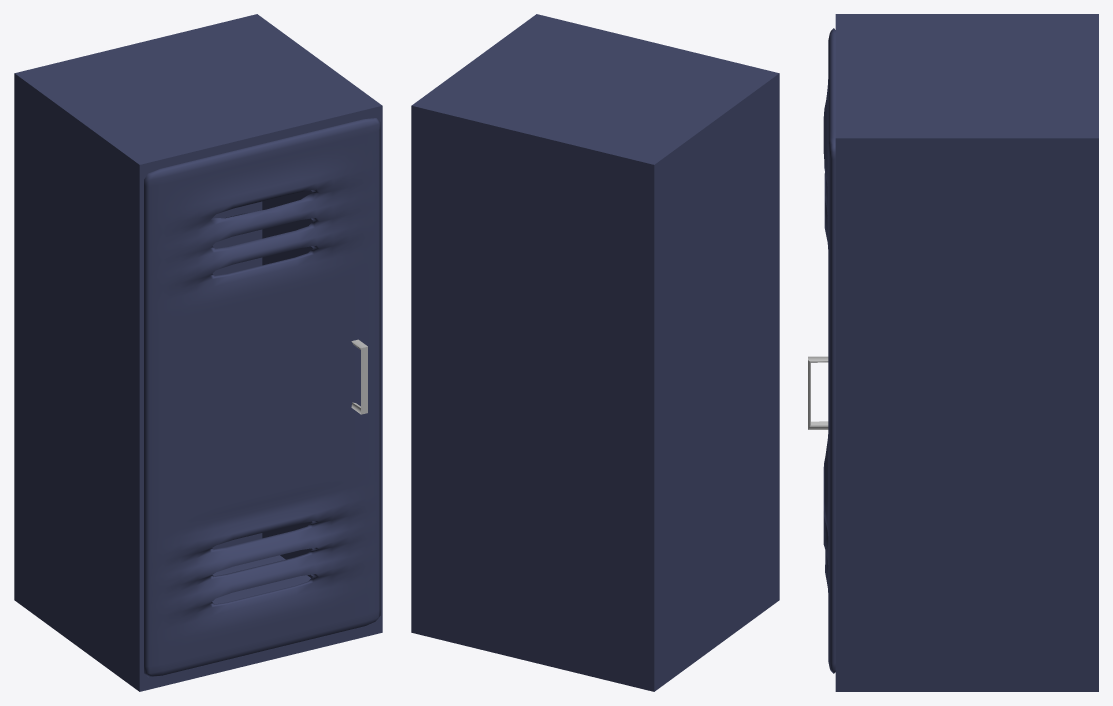
The model's file is Locker Model.fbx.
3 renders of one model, left to right at view 1: azimuth 30°, elevation 25°; view 2: azimuth 150°, elevation 25°; view 3: azimuth 270°, elevation 25°, orthographic. The views are drawn at different scales.
Visible parts, largest first — view 1: pCube4, pCube3, pCube5; view 2: pCube3; view 3: pCube3, pCube4, pCube5.
Part boxes in pixels (<box>): pCube4: <box>144,118,380,677</box>; pCube3: <box>14,14,382,691</box>; pCube5: <box>351,339,367,414</box>; pCube3: <box>411,14,779,691</box>; pCube3: <box>835,14,1098,691</box>; pCube4: <box>823,28,835,673</box>; pCube5: <box>808,356,828,429</box>.
Bounding box in the file's own units: 1.43 × 2.96 × 1.41.
